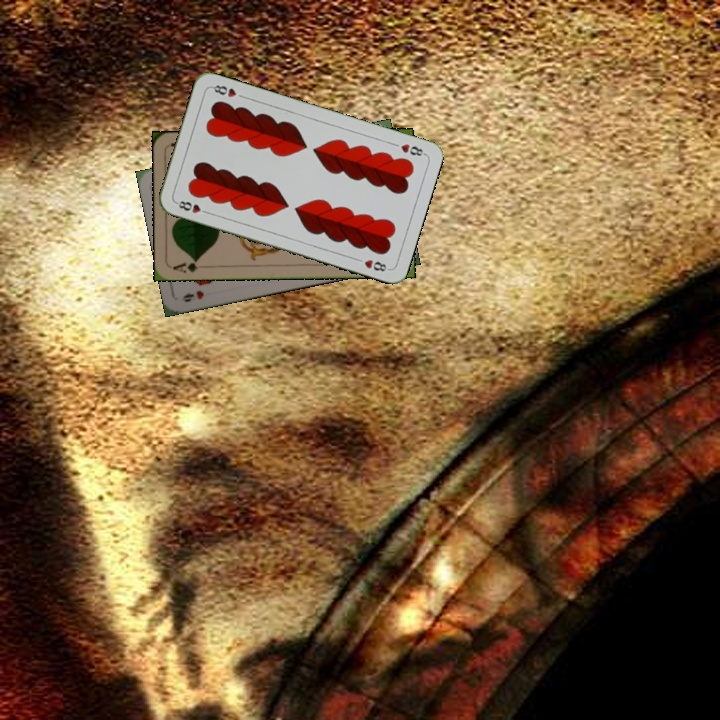GA: (169, 256, 209, 275)
H8: (388, 139, 427, 159), (172, 197, 211, 216)
H9: (178, 286, 206, 305)
